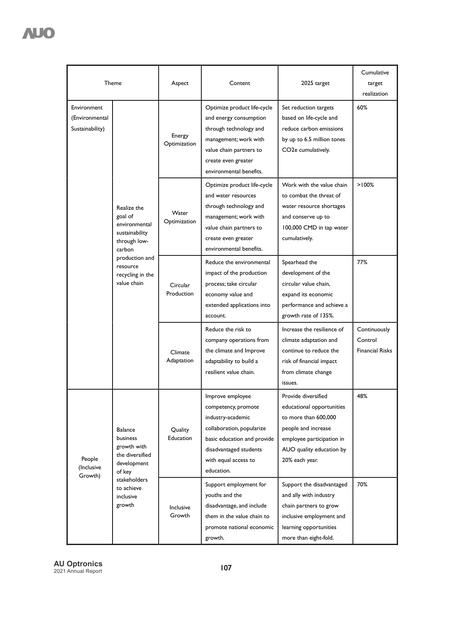box: (65, 63, 403, 547)
